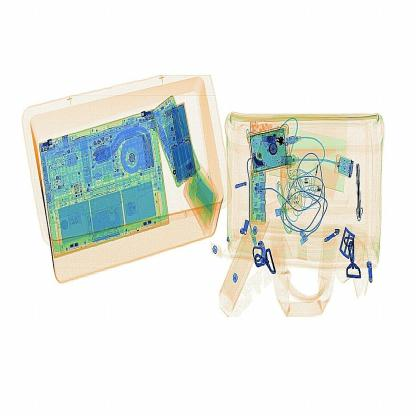knife: (353, 164, 365, 224)
